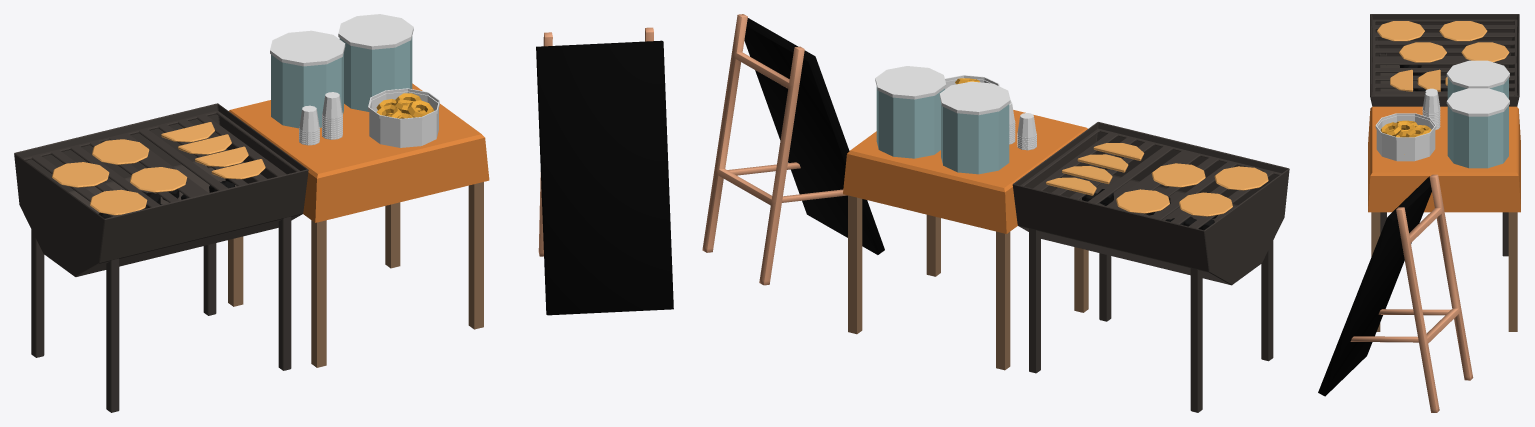
File: PuestosComida01.fbx
3 renders of one model, left to right at view 1: azimuth 30°, elevation 25°; view 2: azimuth 150°, elevation 25°; view 3: azimuth 270°, elevation 25°, orthographic. The views are drawn at different scales.
Visible parts, largest first — view 1: PuestosComida; view 2: PuestosComida; view 3: PuestosComida.
Part boxes in pixels (bbox=[...]): PuestosComida: bbox=[14, 14, 673, 412]; PuestosComida: bbox=[702, 14, 1289, 412]; PuestosComida: bbox=[1318, 14, 1520, 412].
Bounding box in the file's own units: 303 × 129 × 111.
